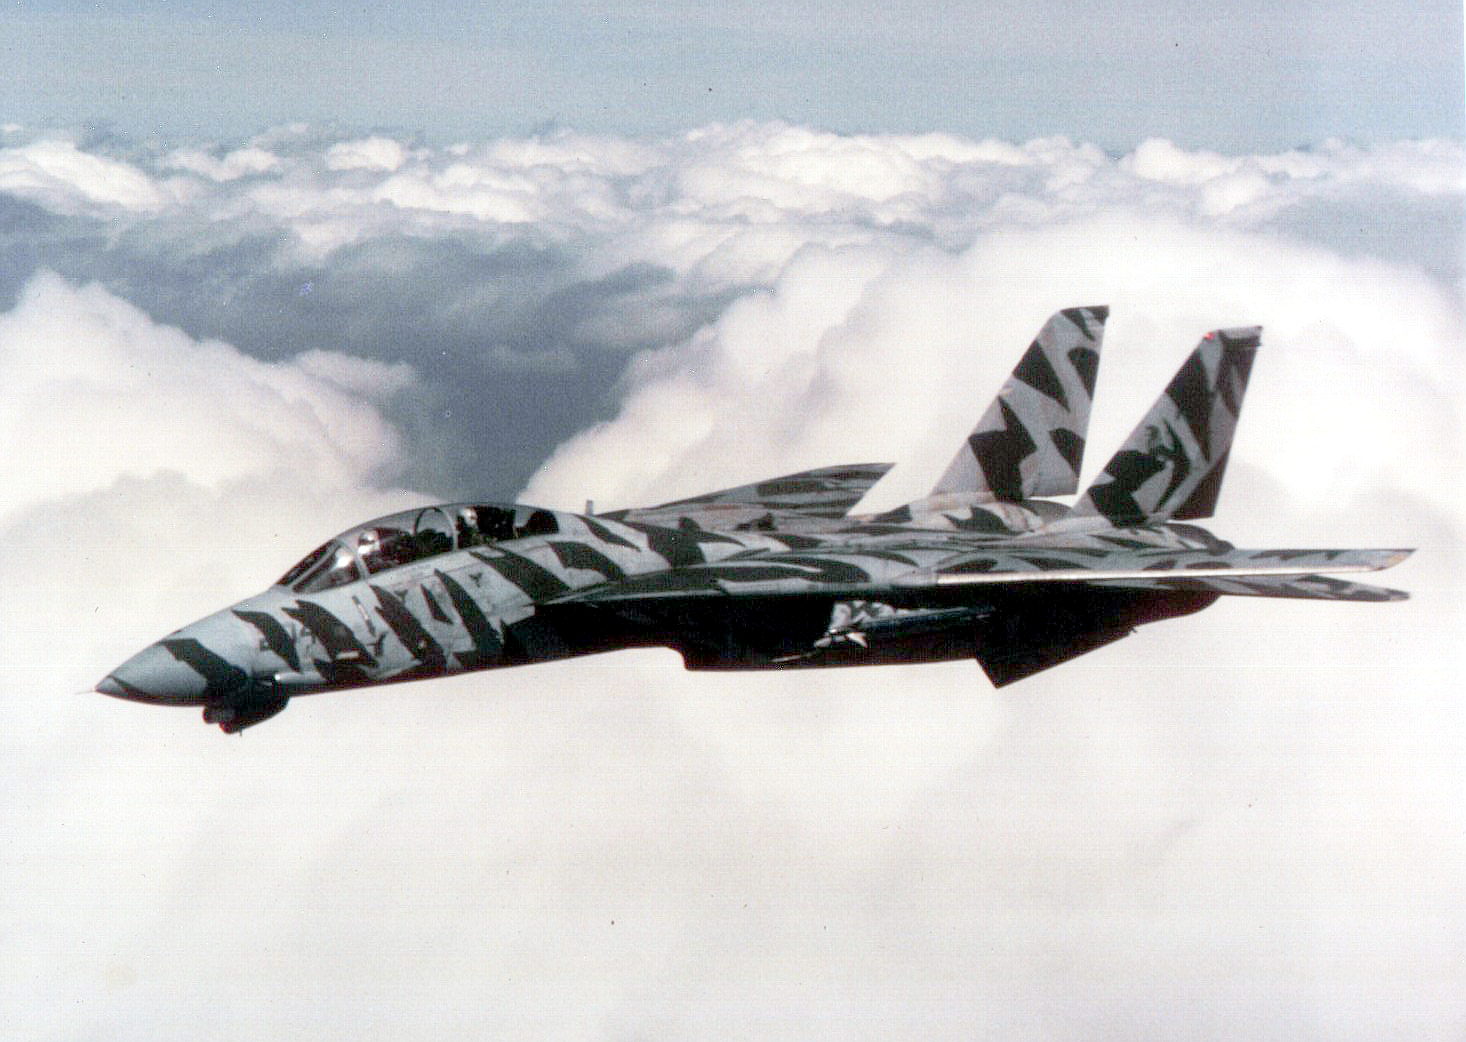F14: (73, 303, 1418, 738)
